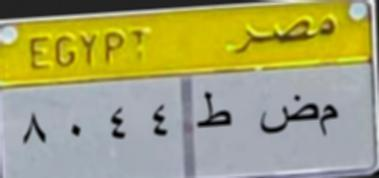0: (67, 121, 91, 140)
4: (146, 101, 175, 144), (104, 106, 130, 142)
8: (17, 109, 50, 152)
Taa: (192, 88, 234, 135)
daad: (256, 94, 320, 140)
meem: (320, 102, 346, 142)
